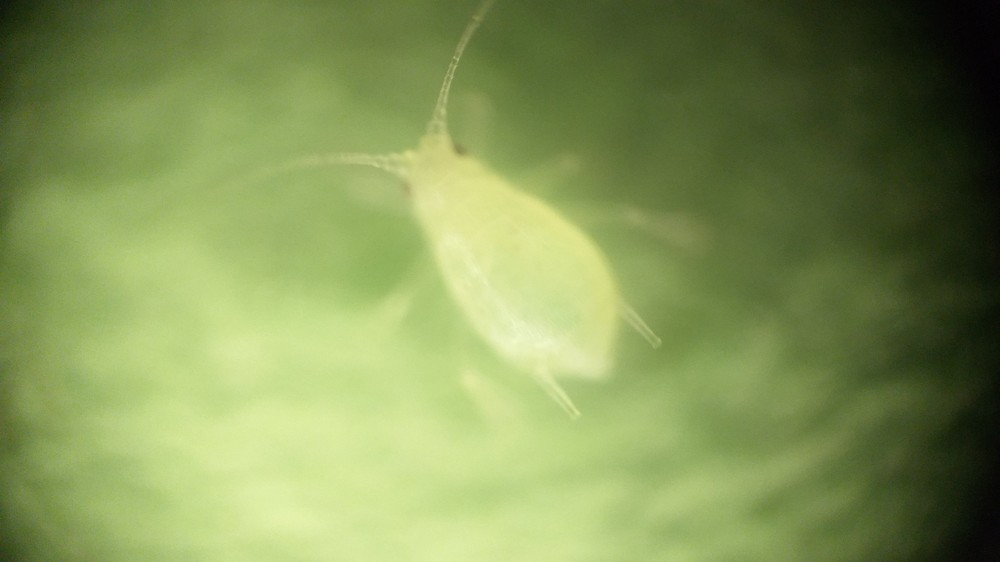Pulgon: (299, 29, 757, 450)
